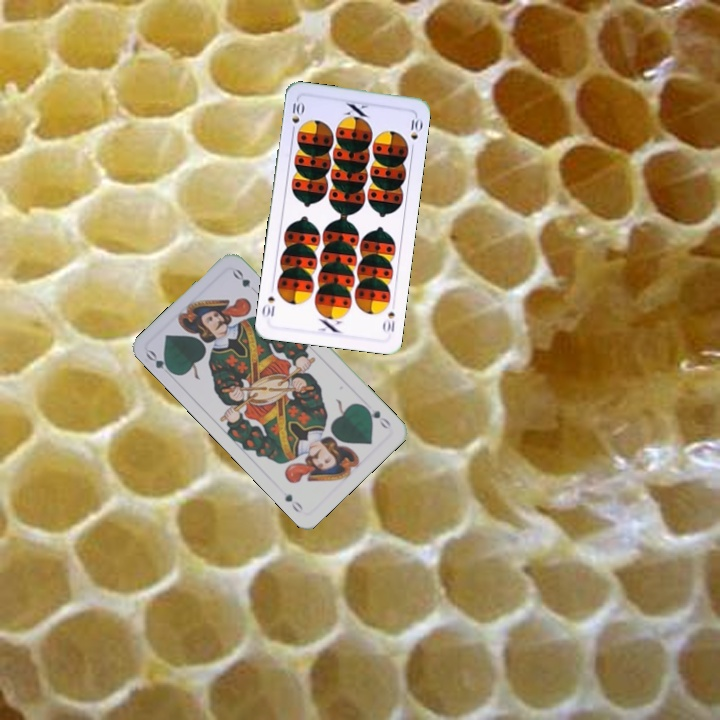GO: (142, 346, 177, 377), (360, 402, 394, 432)
S10: (288, 98, 305, 136), (379, 308, 397, 335)
